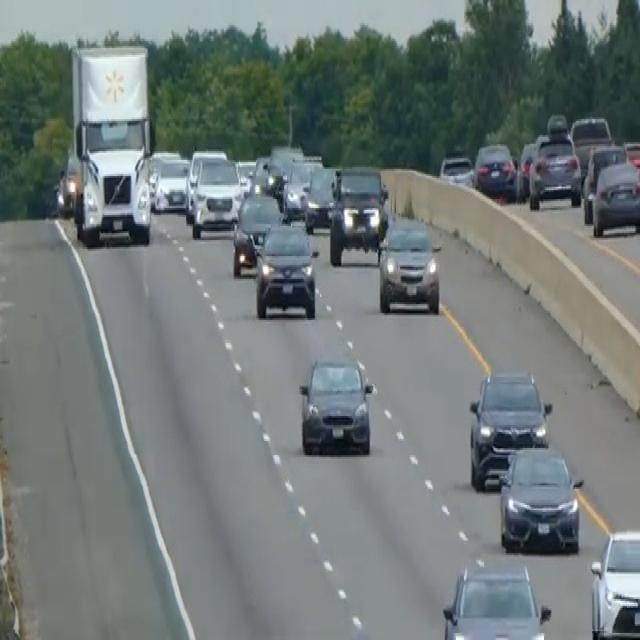car: (467, 366, 551, 491), (498, 443, 583, 553), (441, 562, 551, 638), (297, 352, 374, 457), (253, 219, 318, 320), (376, 215, 441, 315), (328, 162, 388, 265), (589, 526, 639, 638), (231, 188, 283, 276), (191, 155, 243, 238), (528, 132, 582, 210), (590, 158, 639, 236), (581, 142, 627, 222), (183, 146, 227, 218), (282, 153, 323, 219), (473, 140, 517, 201), (569, 112, 612, 174), (303, 164, 339, 231), (152, 155, 190, 213), (250, 154, 284, 202), (55, 148, 79, 215), (439, 150, 474, 188), (516, 139, 537, 197), (269, 140, 304, 170), (234, 157, 256, 196), (623, 137, 639, 176)
lorry: (66, 41, 155, 247)
